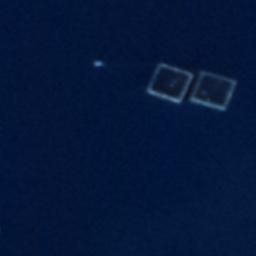square_solid: (142, 58, 198, 107), (188, 67, 240, 117)
